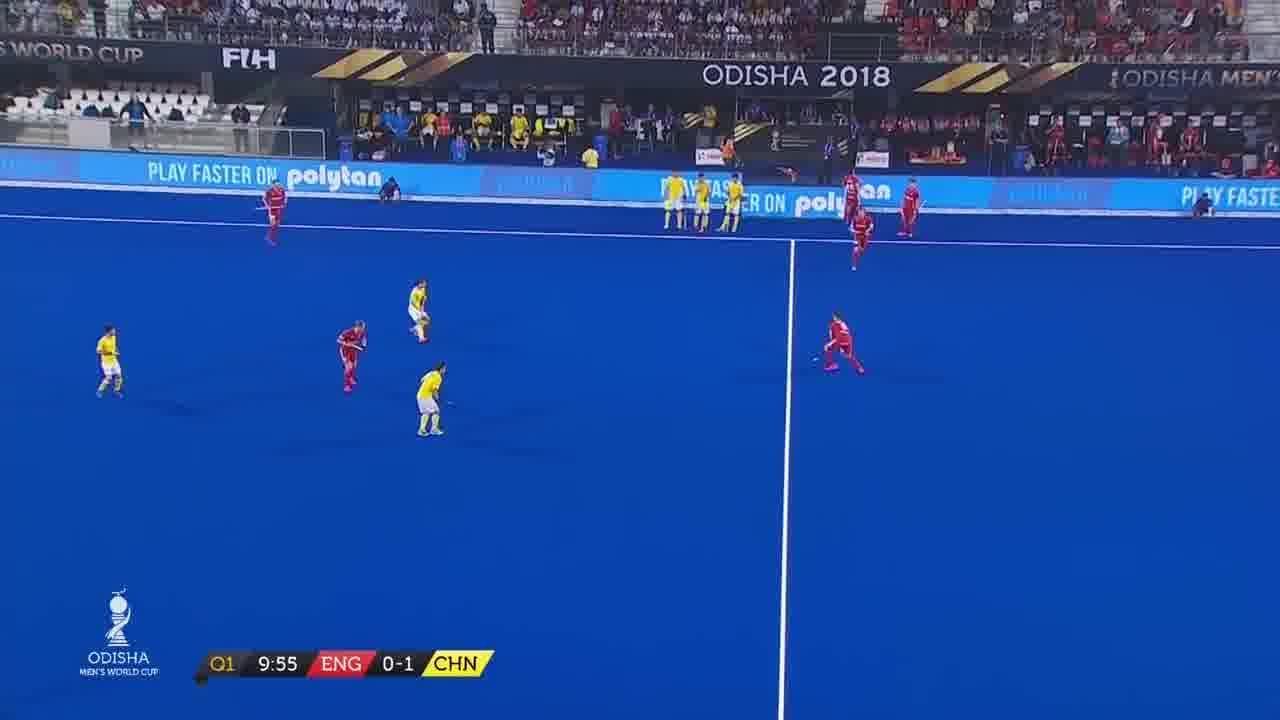ball: (810, 354, 821, 364)
